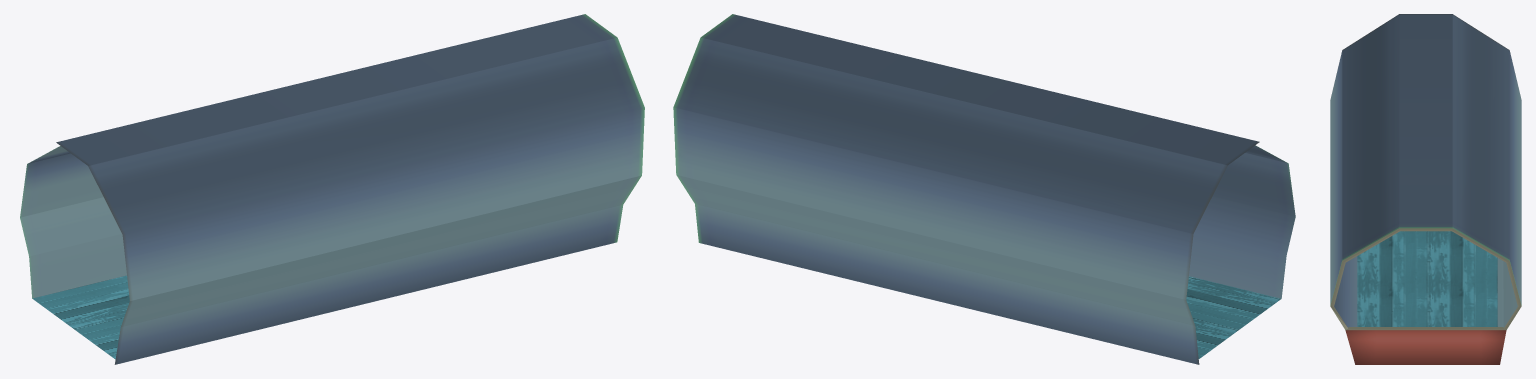
File: booth03.glb
3 views of the same model, side by side, from view 1: azimuth 30°, elevation 25°; view 2: azimuth 150°, elevation 25°; view 3: azimuth 270°, elevation 25° (orthographic). The views are drawn at different scales.
Visible parts, largest first — view 1: booth03; view 2: booth03; view 3: booth03.
Part boxes in pixels (x1,y1,x2,y2): booth03: (20,14,644,364); booth03: (673,14,1295,364); booth03: (1330,14,1521,364).
Size of the model in its own units: 1985 by 643 by 752.
Materials: 4 (4 with a texture image).
